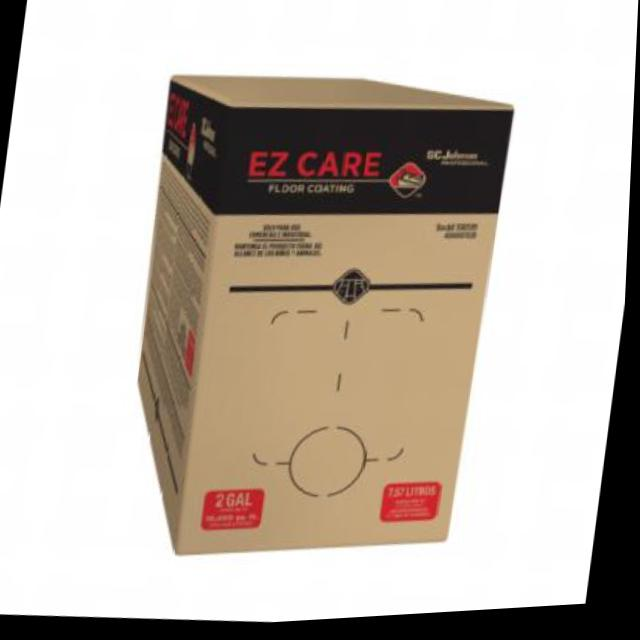box: (93, 41, 536, 598)
